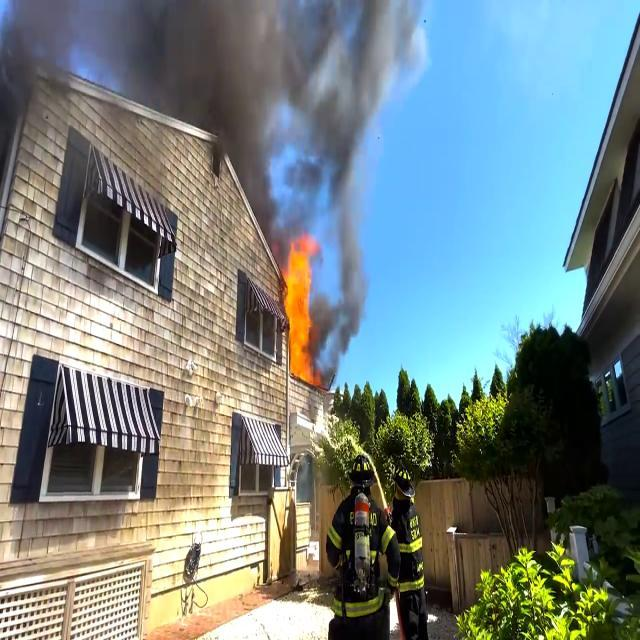Fire: (274, 223, 340, 392)
Smoke: (94, 0, 368, 247)
